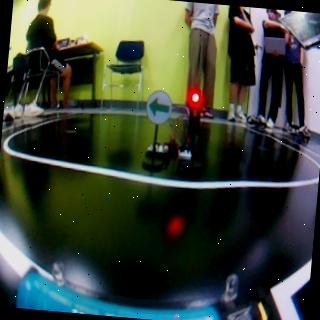left: (146, 90, 170, 124)
red: (180, 90, 203, 172)
